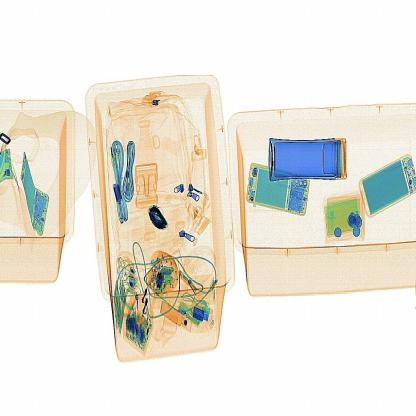scissors: (140, 196, 172, 238)
